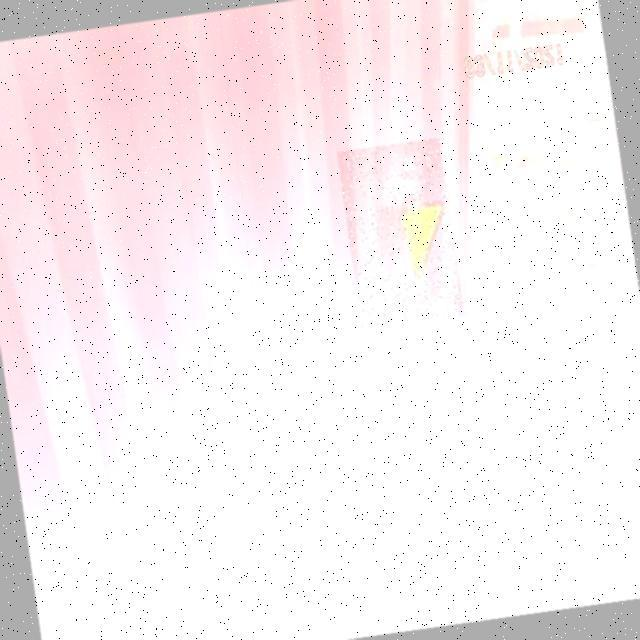Dent: (337, 138, 465, 331)
